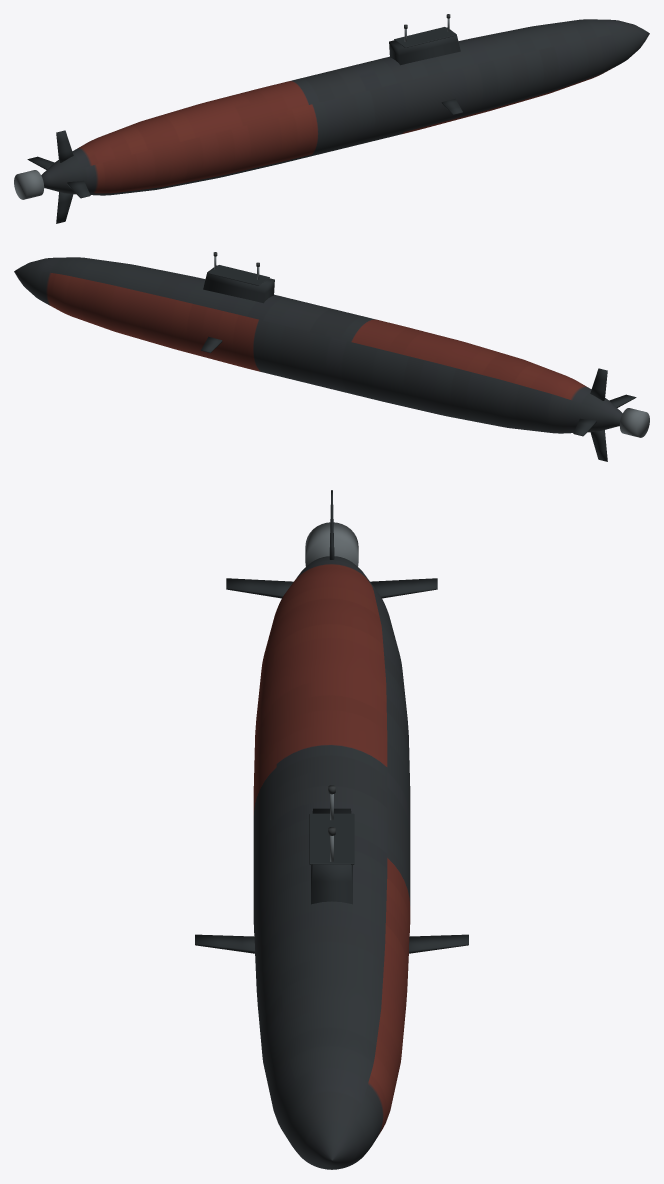
File: US_SSN_Seawolf.glb
3 views of the same model, one above another, from view 1: azimuth 30°, elevation 25°; view 2: azimuth 150°, elevation 25°; view 3: azimuth 270°, elevation 25° (orthographic). The views are drawn at different scales.
Visible parts, largest first — view 1: US_SSN_Seawolf_LOD0; view 2: US_SSN_Seawolf_LOD0; view 3: US_SSN_Seawolf_LOD0.
Part boxes in pixels (box(x1,y1,x2,y2)): US_SSN_Seawolf_LOD0: box(14, 14, 649, 223); US_SSN_Seawolf_LOD0: box(14, 252, 649, 461); US_SSN_Seawolf_LOD0: box(195, 490, 468, 1169).
Size of the model in its own units: 111 by 19.14 by 20.98.
Materials: 6 (1 with a texture image).
